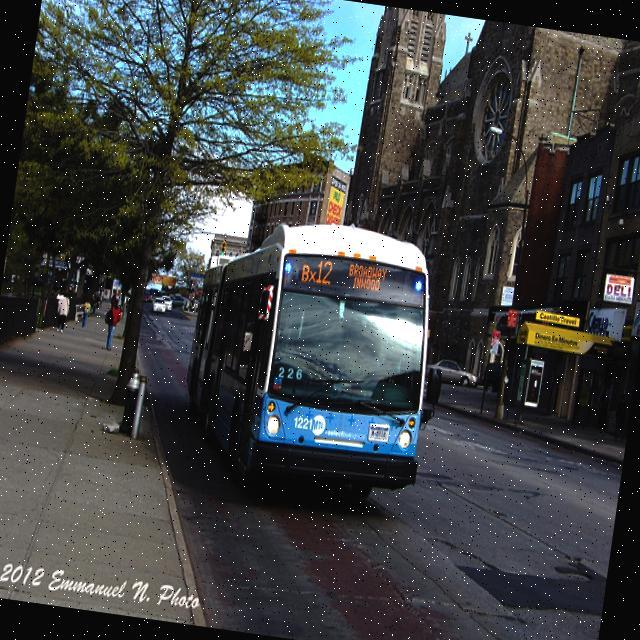fire_hydrant: (118, 362, 144, 434)
